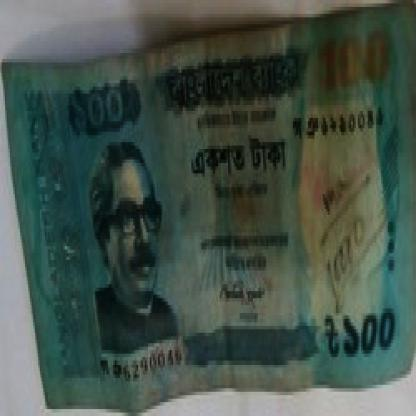one hundred taka: (313, 31, 394, 94), (333, 312, 401, 357), (67, 94, 128, 135), (66, 104, 86, 118)
